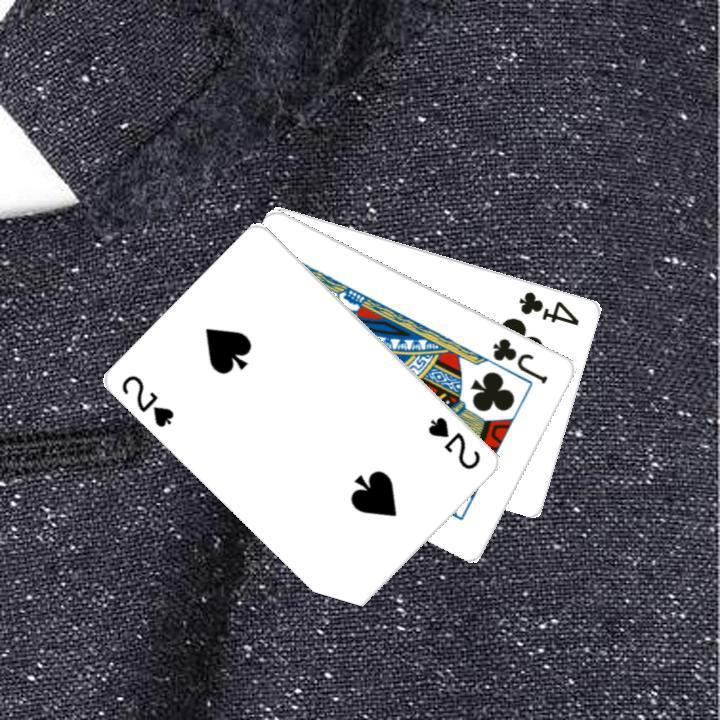2: (424, 412, 484, 472), (117, 370, 177, 430)
4: (515, 287, 582, 327)
J: (489, 333, 551, 386)
